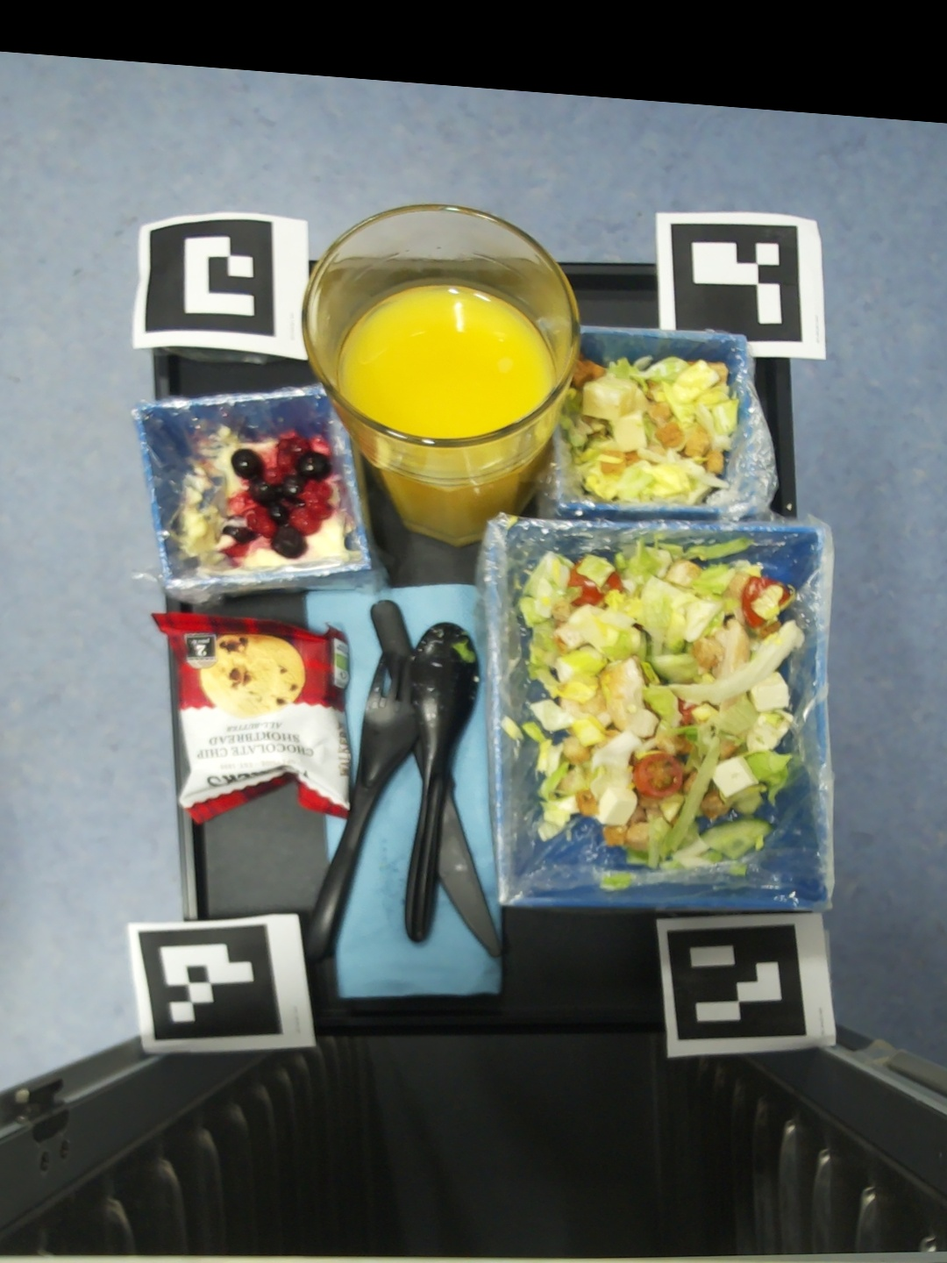cookie: (151, 610, 350, 823)
orange_juice_bottle: (303, 205, 581, 548)
salad_main: (512, 532, 805, 871), (499, 715, 524, 742), (602, 872, 631, 890), (724, 863, 748, 875), (507, 516, 518, 529)
side_salad: (558, 353, 739, 506)
vanilla_pudding_with_fruits: (179, 426, 363, 580)
